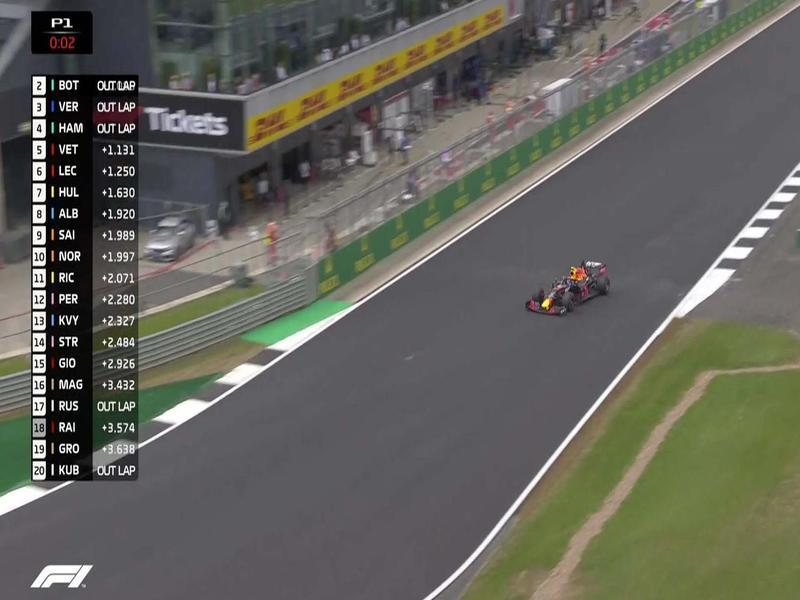f1: (518, 248, 637, 335)
